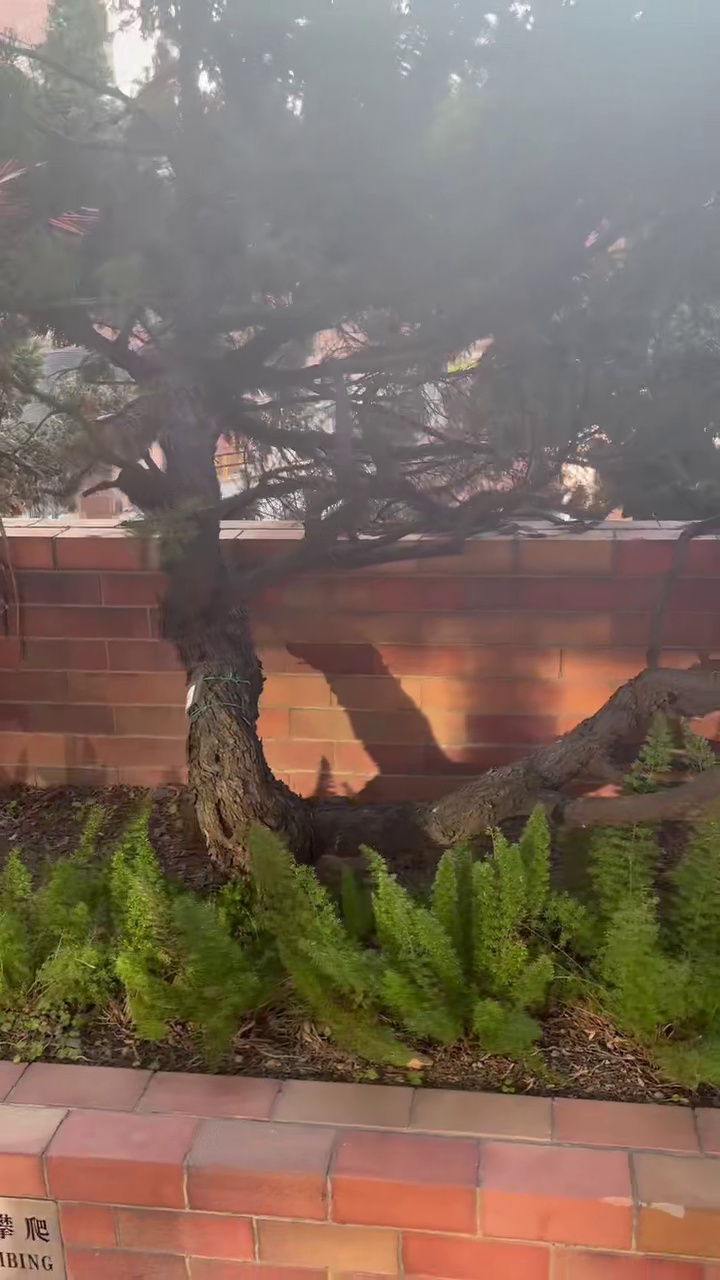Juniperus chinensis: (3, 0, 719, 869)
